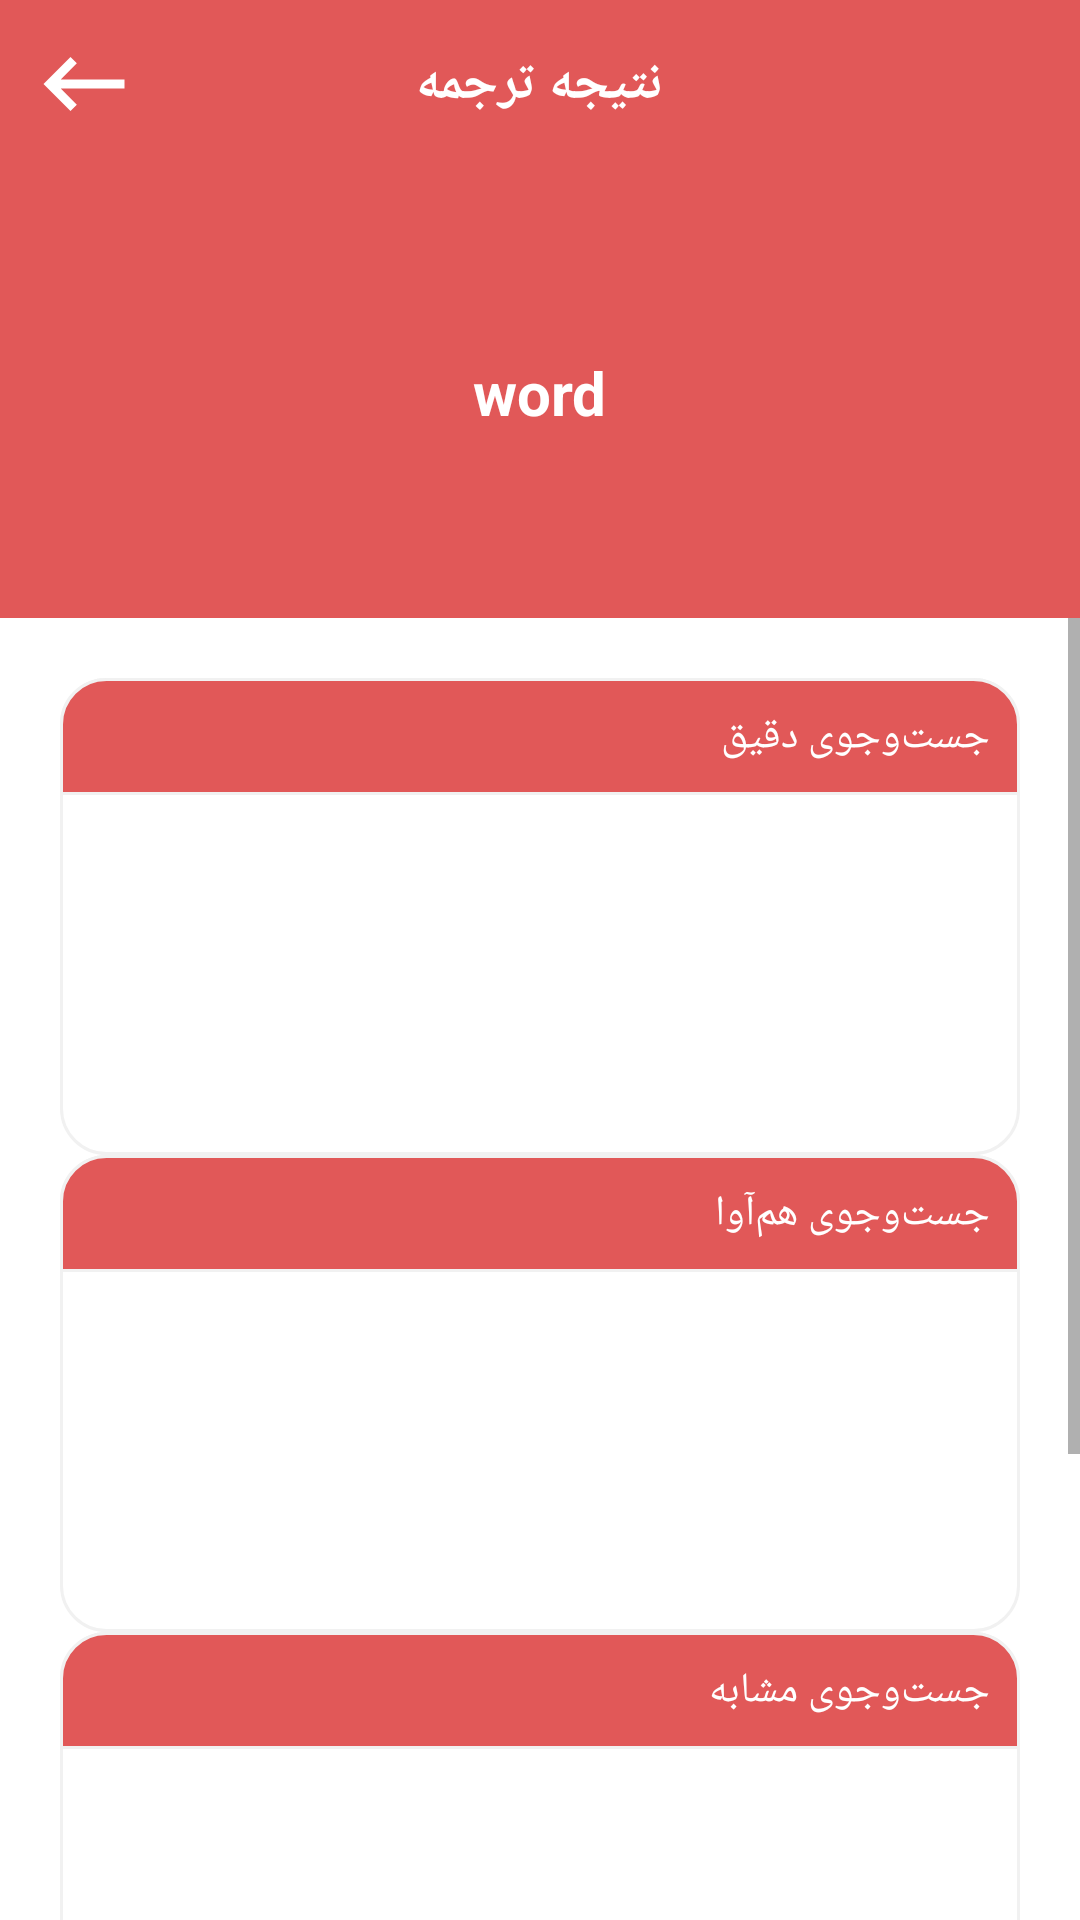

Locate icon controls on the screen. Image size 1080px×1920px, boxes as (x1, y1, x2, y2).
keyboard backspace: (44, 57, 125, 111)
